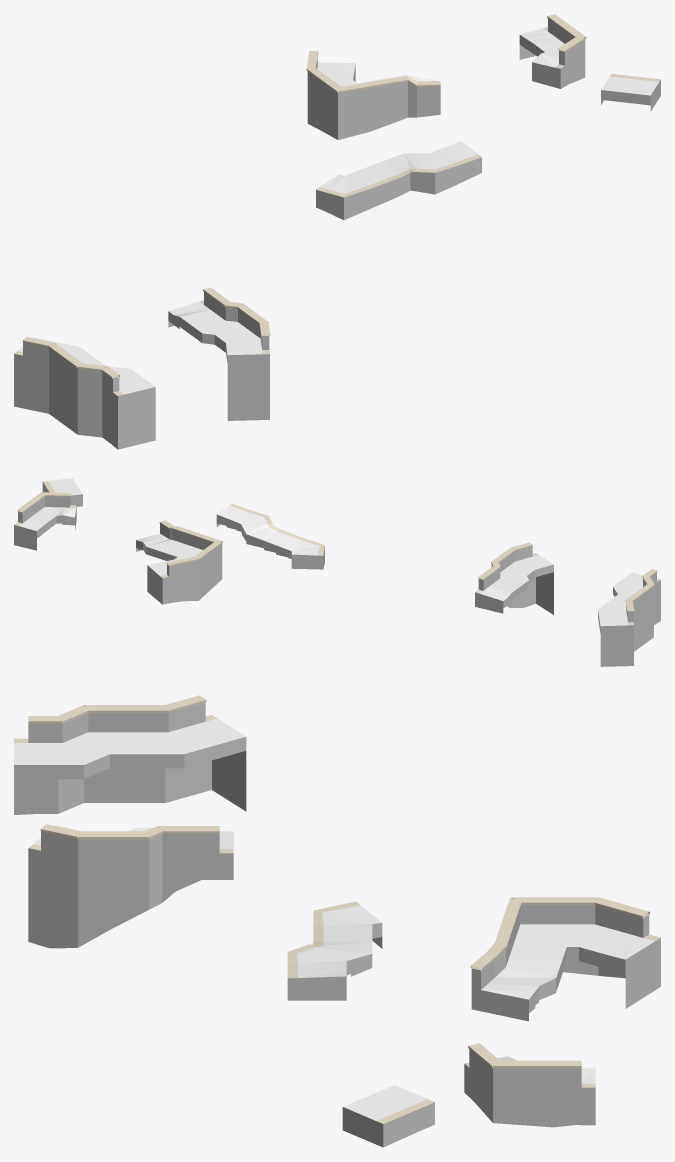
The model's file is SM_BM_BC_Works_2_4.glb.
3 renders of one model, top to bottom at view 1: azimuth 30°, elevation 25°; view 2: azimuth 150°, elevation 25°; view 3: azimuth 270°, elevation 25°, orthographic. The views are drawn at different scales.
Parts seen in each view (by area): view 1: SM_BM_BC_Works_2_4; view 2: SM_BM_BC_Works_2_4; view 3: SM_BM_BC_Works_2_4.
Boxes of the visible parts, bbox=[...] form: SM_BM_BC_Works_2_4: bbox=[14, 14, 660, 449]; SM_BM_BC_Works_2_4: bbox=[14, 478, 660, 666]; SM_BM_BC_Works_2_4: bbox=[14, 695, 660, 1147].
Size of the model in its own units: 45.04 by 9.02 by 25.02.
